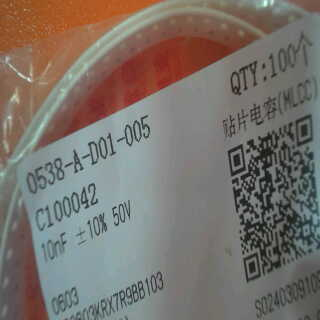10nF: (41, 228, 73, 263)
